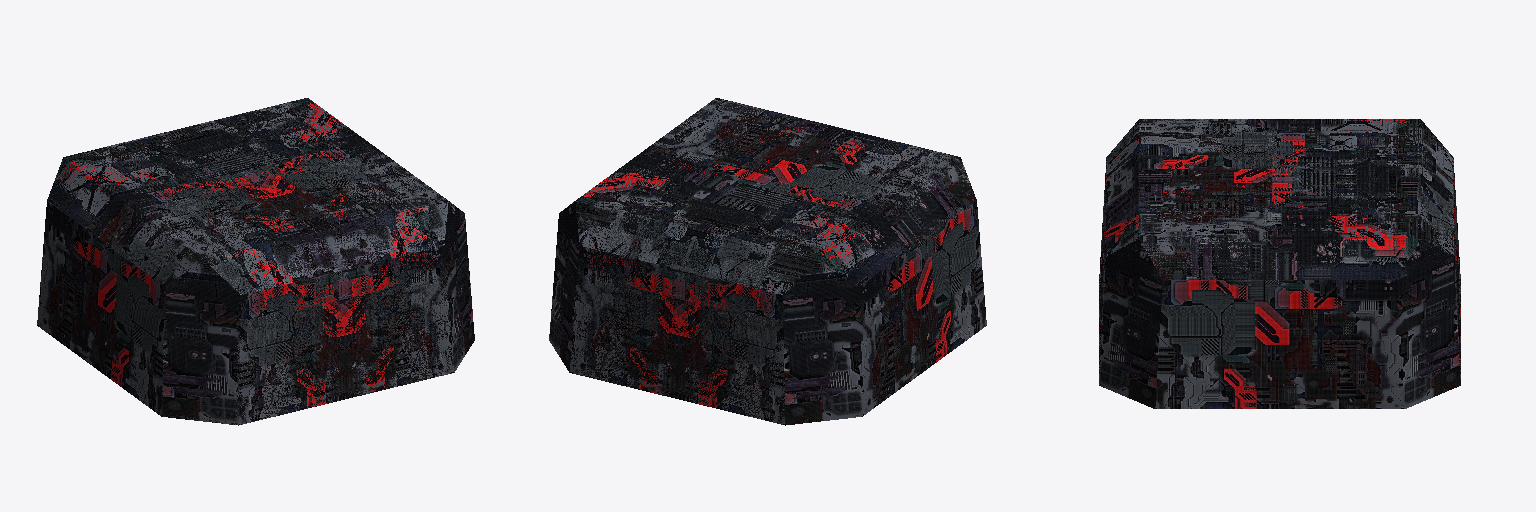
The picture shows the model from 3 angles: view 1: azimuth 30°, elevation 25°; view 2: azimuth 150°, elevation 25°; view 3: azimuth 270°, elevation 25°; orthographic projection.
Visible parts, largest first — view 1: turela.001; view 2: turela.001; view 3: turela.001.
Part boxes in pixels (x1,y1,x2,y2): turela.001: (37,98,474,425); turela.001: (549,98,986,425); turela.001: (1099,119,1460,408).
Bounding box in the file's own units: 0.5472 × 0.257 × 0.5472.
Materials: 1 (1 with a texture image).